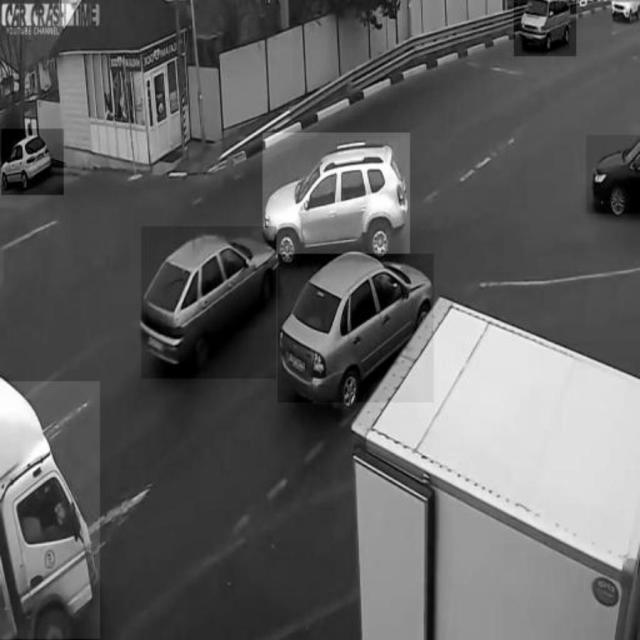vehicle: (0, 381, 100, 639), (278, 254, 434, 402), (142, 226, 276, 378), (263, 133, 410, 257), (586, 135, 640, 213), (2, 129, 64, 195), (515, 1, 577, 57)
